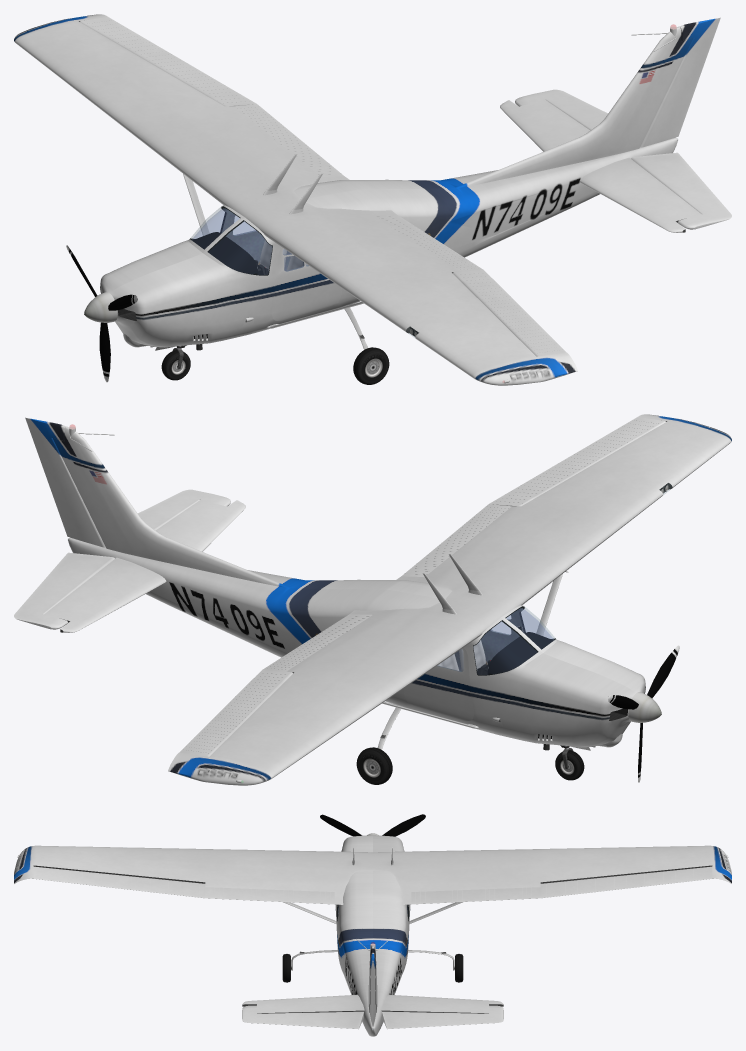
Rendered from cessna_210a_centurion.glb.
3 renders of one model, top to bottom at view 1: azimuth 30°, elevation 25°; view 2: azimuth 150°, elevation 25°; view 3: azimuth 270°, elevation 25°, orthographic. The views are drawn at different scales.
Parts seen in each view (by area): view 1: Object_12, Object_11, Object_13, Object_31, Object_25, Object_24, Object_33; view 2: Object_12, Object_11, Object_13, Object_31, Object_25, Object_24, Object_33; view 3: Object_12, Object_11, Object_13.
Boxes of the visible parts, box(x1,y1,x2,y2) form: Object_12: box(14, 14, 720, 385); Object_11: box(66, 26, 731, 384); Object_13: box(87, 20, 701, 353); Object_31: box(190, 24, 675, 382); Object_25: box(192, 232, 258, 274); Object_24: box(190, 206, 308, 275); Object_33: box(192, 209, 256, 239); Object_12: box(25, 414, 731, 785); Object_11: box(14, 426, 679, 784); Object_13: box(44, 420, 658, 753); Object_31: box(70, 424, 671, 782); Object_25: box(487, 632, 553, 674); Object_24: box(437, 606, 555, 675); Object_33: box(492, 609, 553, 639); Object_12: box(14, 835, 731, 1036); Object_11: box(17, 814, 728, 1030); Object_13: box(52, 869, 693, 1013).
Size of the model in its own units: 8.47 by 2.96 by 11.17.
Materials: 28 (26 with a texture image).
